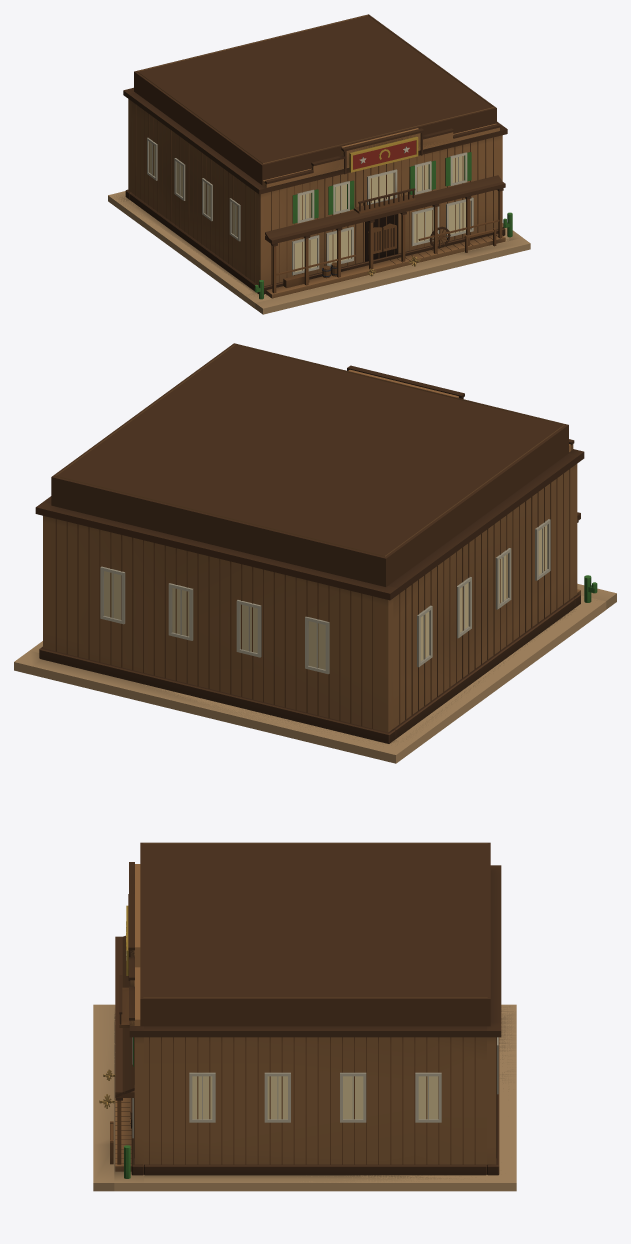
The model's file is TumbleweedRunnerFloor.fbx.
3 views of the same model, one above another, from view 1: azimuth 30°, elevation 25°; view 2: azimuth 150°, elevation 25°; view 3: azimuth 270°, elevation 25° (orthographic). The views are drawn at different scales.
Parts seen in each view (by area): view 1: SA_S_All, SA_F_Rings, SA_F_Smooth, SA_F_Glass, SA_F_Quiet; view 2: SA_S_All, SA_F_Rings, SA_F_Smooth, SA_F_Glass, SA_F_Quiet; view 3: SA_S_All, SA_F_Rings, SA_F_Smooth, SA_F_Quiet, SA_F_Glass.
Part boxes in pixels (x1=…): SA_S_All: x1=108, y1=14, x2=519, y2=308; SA_F_Rings: x1=123, y1=15, x2=507, y2=294; SA_F_Smooth: x1=123, y1=90, x2=530, y2=314; SA_F_Glass: x1=149, y1=142, x2=470, y2=271; SA_F_Quiet: x1=109, y1=191, x2=530, y2=308; SA_S_All: x1=14, y1=343, x2=606, y2=763; SA_F_Rings: x1=36, y1=344, x2=583, y2=743; SA_F_Smooth: x1=35, y1=365, x2=616, y2=743; SA_F_Glass: x1=104, y1=525, x2=547, y2=669; SA_F_Quiet: x1=14, y1=583, x2=616, y2=749; SA_S_All: x1=114, y1=842, x2=516, y2=1191; SA_F_Rings: x1=115, y1=843, x2=501, y2=1175; SA_F_Smooth: x1=93, y1=862, x2=501, y2=1191; SA_F_Quiet: x1=93, y1=1004, x2=516, y2=1182; SA_F_Glass: x1=192, y1=1076, x2=438, y2=1119.
Size of the model in its own units: 60 by 20 by 60.
